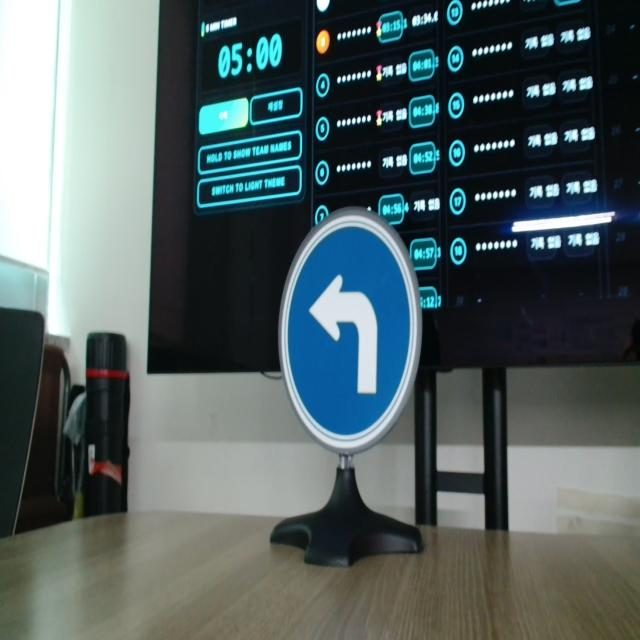left_direction: (264, 209, 424, 458)
